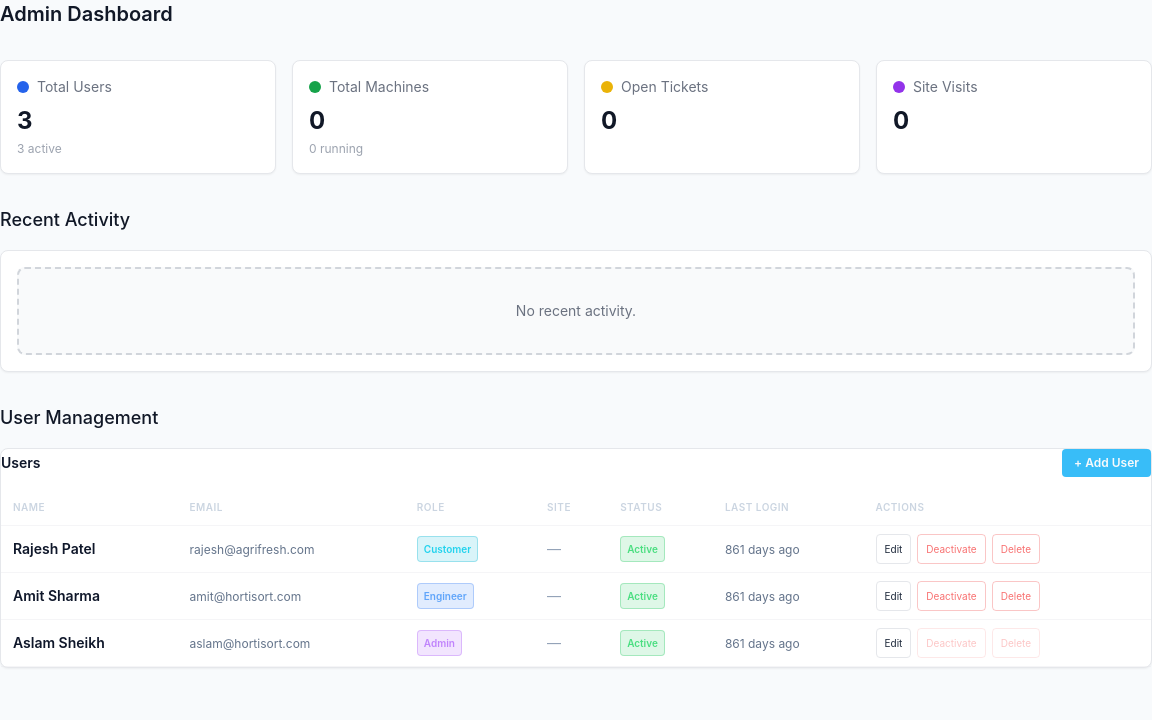
Test: AdminPage › opens EditUserModal when "Edit" button is clicked on a user row
Click the button "Edit" in the row of "Rajesh Patel".
click(893, 549)  # box [876,534,911,564]
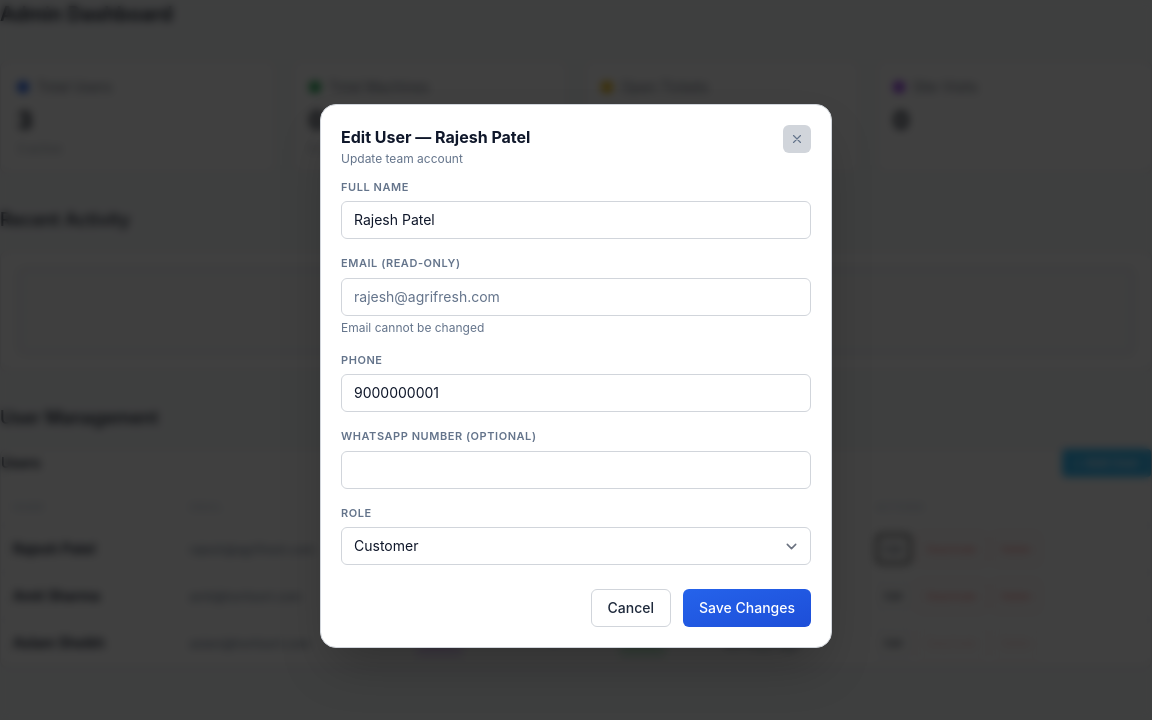
Expected: the dialog is shown
